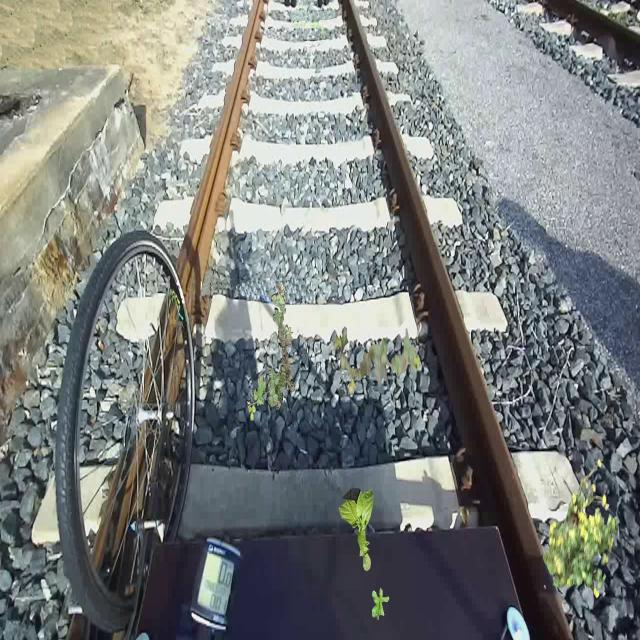Plant: (543, 459, 618, 599), (247, 283, 296, 421), (334, 326, 421, 394), (338, 488, 374, 572), (372, 588, 390, 620)
